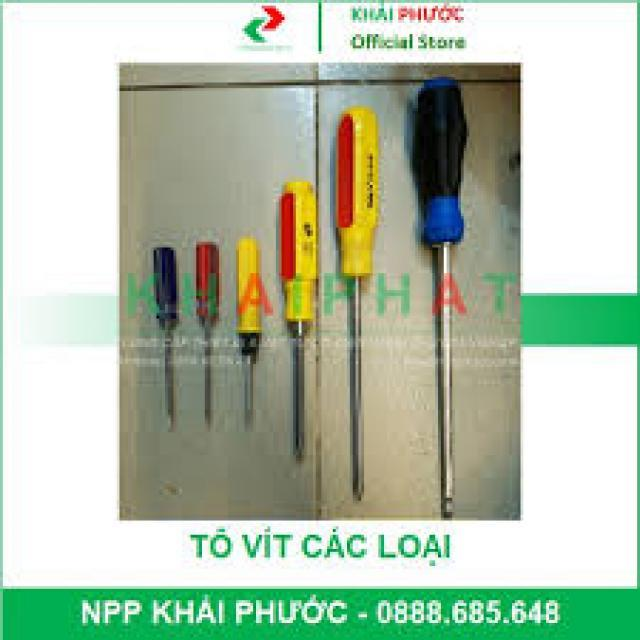screwdriver: (406, 74, 469, 524), (333, 106, 381, 507), (274, 178, 320, 468), (230, 233, 264, 438), (149, 245, 181, 432), (192, 238, 220, 430)
